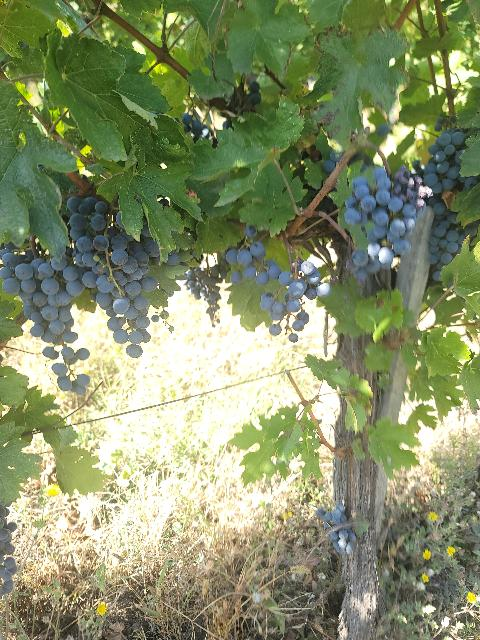grapes: (68, 198, 159, 358), (0, 251, 90, 394), (341, 166, 431, 285), (422, 128, 478, 281), (260, 260, 330, 341)
